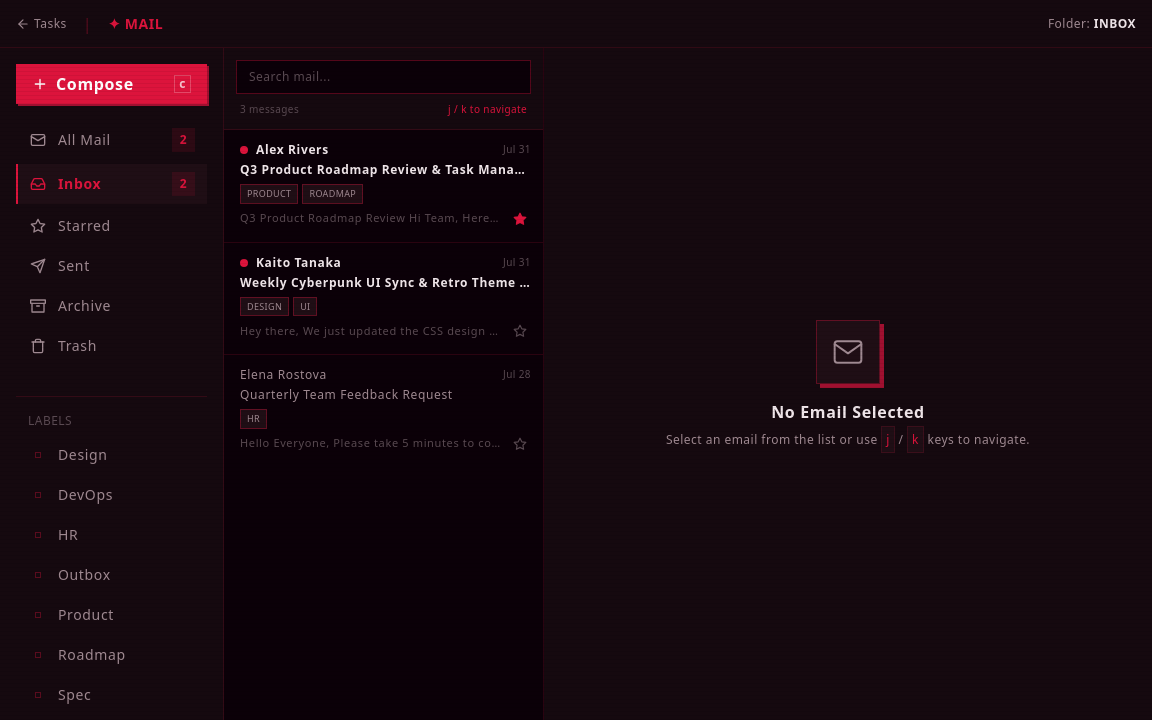
Scenario: MailPage Orchestrator & Integration Suite › Tier 1: Core Layout & Navigation Flows › filters email list when selecting a folder in MailSidebar
The image size is (1152, 720).
// Switch to Sent folder (Server Action 経由でメール一覧を取得し直すため非同期)
What coordinates should you click on to do the following:
click the button "Sent"
I would click on:
 (112, 266)
Its box is left=16, top=248, right=207, bottom=284.
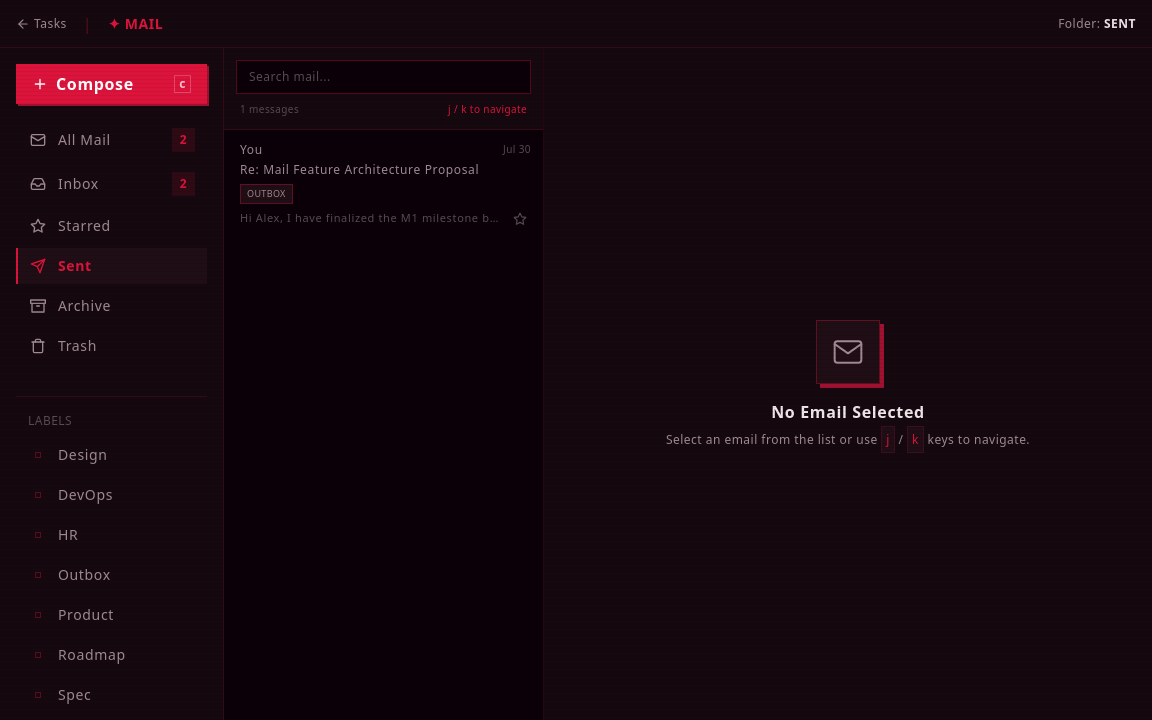
Check: the text "Re: Mail Feature Architecture Proposal" is shown, box left=240, top=161, right=479, bottom=178
